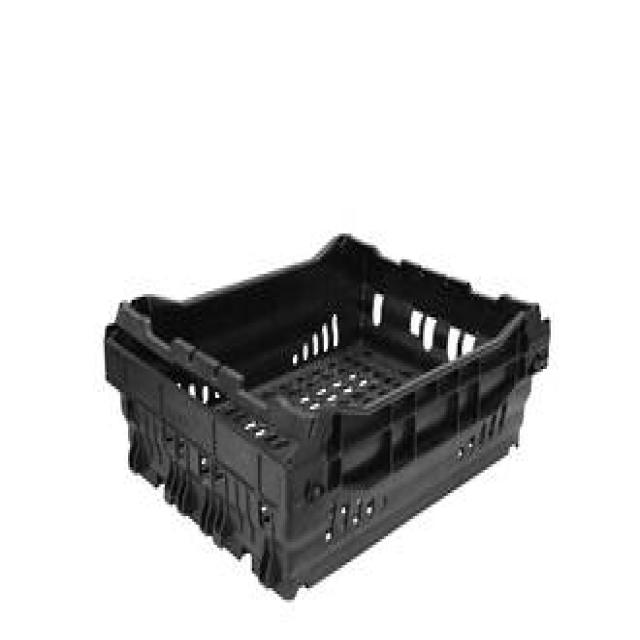basket: (53, 112, 597, 633)
